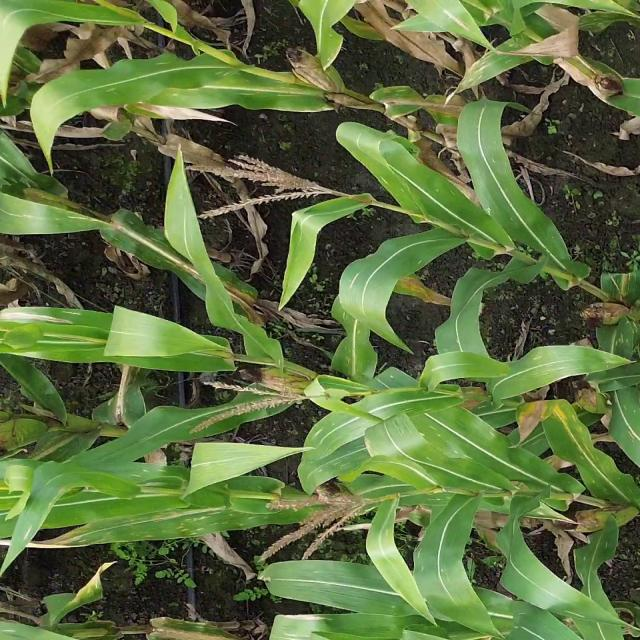northern-leaf-blight: (34, 324, 108, 352)
southern-leaf-blight: (106, 512, 268, 556), (418, 417, 530, 468), (548, 405, 610, 481), (389, 180, 470, 220)
